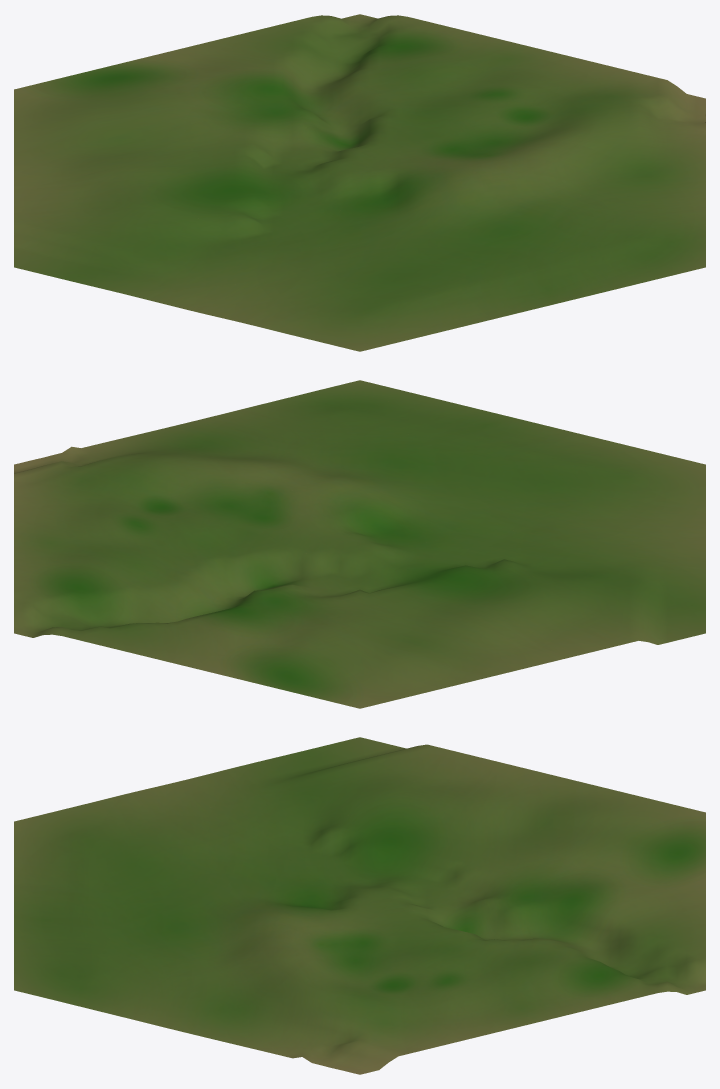
The model's file is Costal3A.glb.
3 renders of one model, top to bottom at view 1: azimuth 30°, elevation 25°; view 2: azimuth 150°, elevation 25°; view 3: azimuth 270°, elevation 25°, orthographic.
Visible parts, largest first — view 1: Circle; view 2: Circle; view 3: Circle.
Part boxes in pixels (x1,y1,x2,y2): Circle: (14,14,705,351); Circle: (14,380,705,708); Circle: (14,737,705,1074).
Bounding box in the file's own units: 400 × 17.79 × 346.
1 material, 1 textured.
